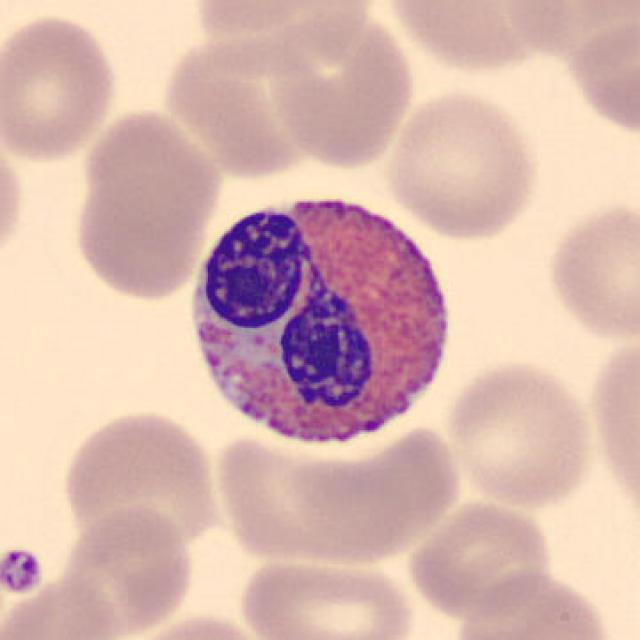Eosinophil: (178, 173, 466, 462)
Platelets: (0, 544, 46, 598)
RBC: (208, 414, 462, 570), (69, 102, 226, 304), (158, 23, 347, 182), (270, 3, 420, 173), (382, 85, 544, 242), (57, 404, 224, 555), (443, 356, 599, 510), (50, 499, 199, 638), (0, 9, 123, 166), (404, 496, 556, 622), (235, 552, 420, 640), (542, 196, 638, 346), (380, 0, 562, 74), (450, 566, 617, 640), (585, 330, 638, 525), (562, 12, 638, 140), (0, 569, 124, 639), (494, 0, 638, 60), (183, 0, 377, 42), (103, 610, 276, 640), (0, 125, 28, 276)
